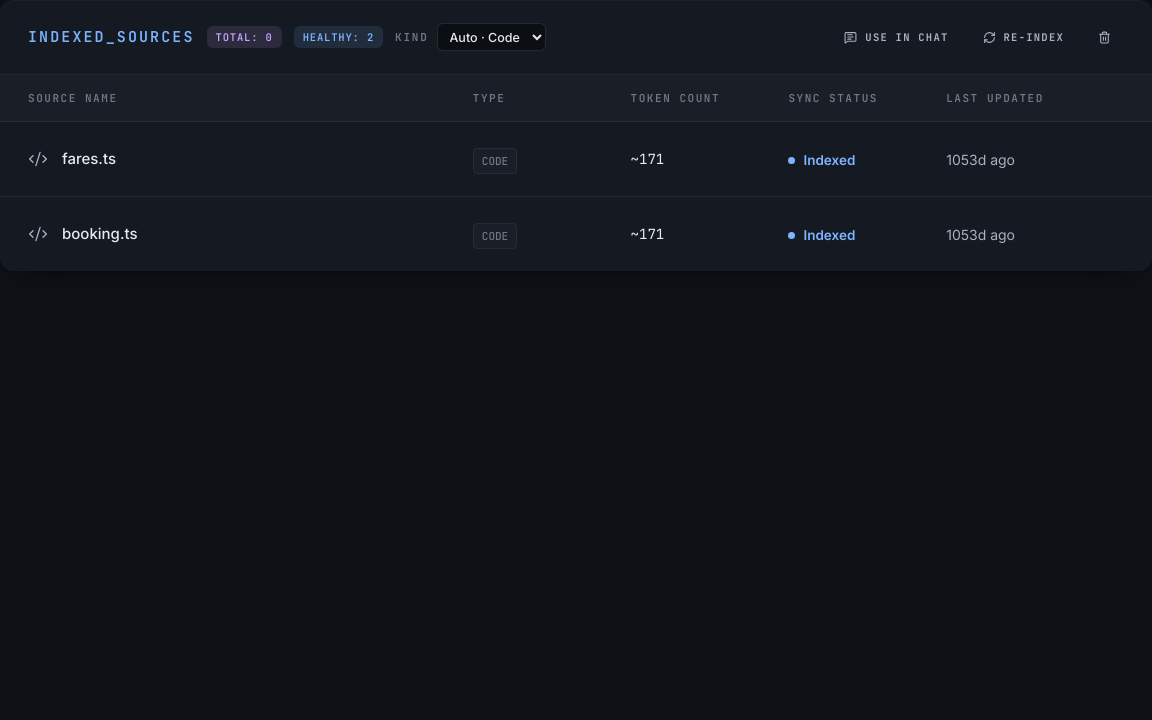
blast radius › shows what depends on a code file and which tests to re-run; affected files open in place
What coordinates should you click on to do the following:
click the button with aria-label "View fares.ts"
I would click on:
 (72, 159)
Its box is [28,148,116,170].
(page scrolled)
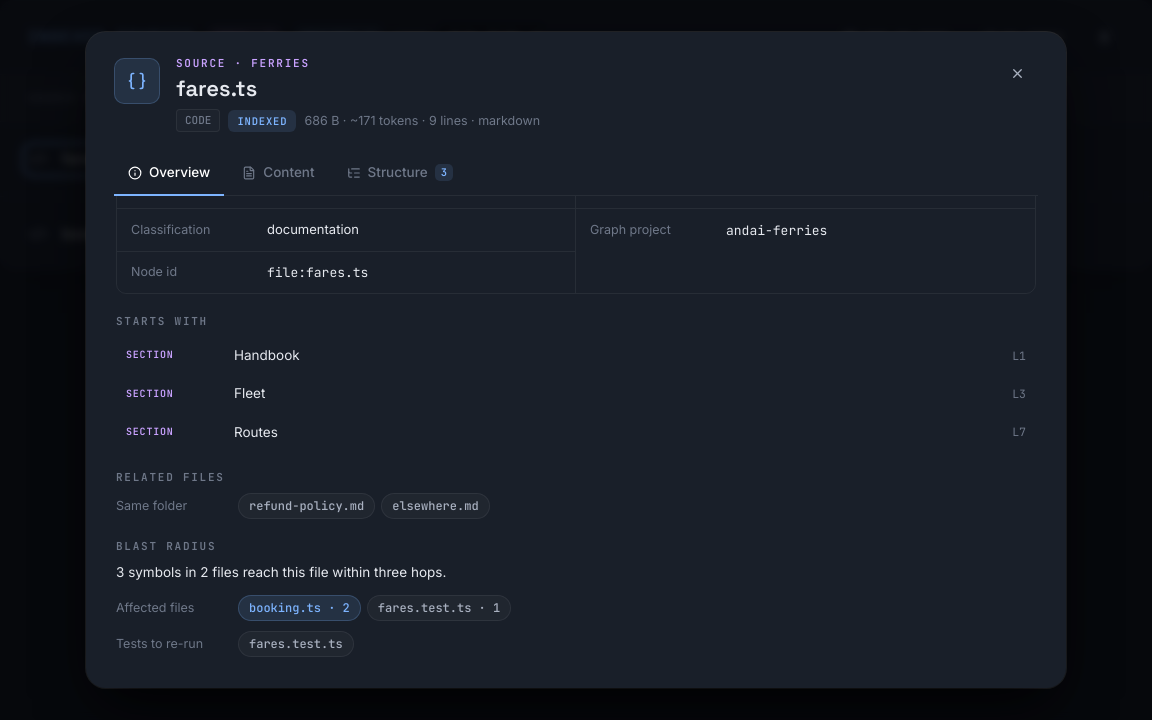
Expected: the text "3 symbols in 2 files reach this file within three hops." is shown, [116,564,446,580]
Expected: the text "fares.test.ts" is shown once, [238,631,354,657]
What coordinates should you click on to do the following:
click the button "booking.ts · 2"
I would click on:
 (299, 608)
Its box is [238,594,361,621].
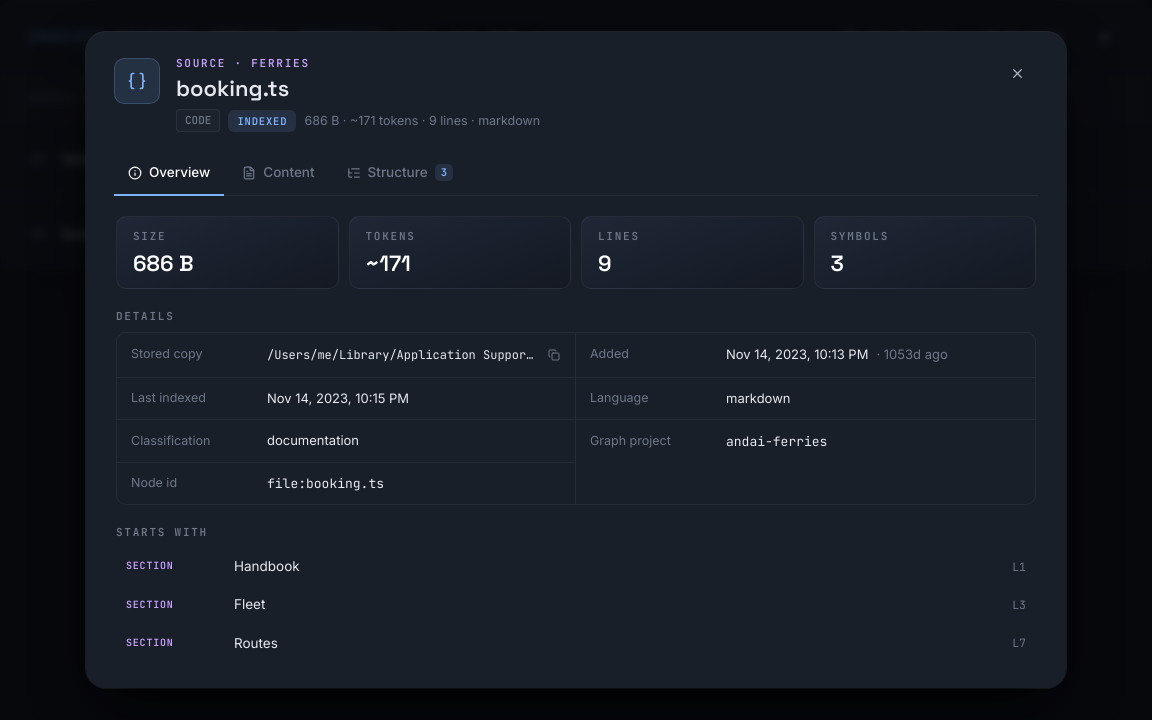
Expected: the dialog named "Source booking.ts" is shown
